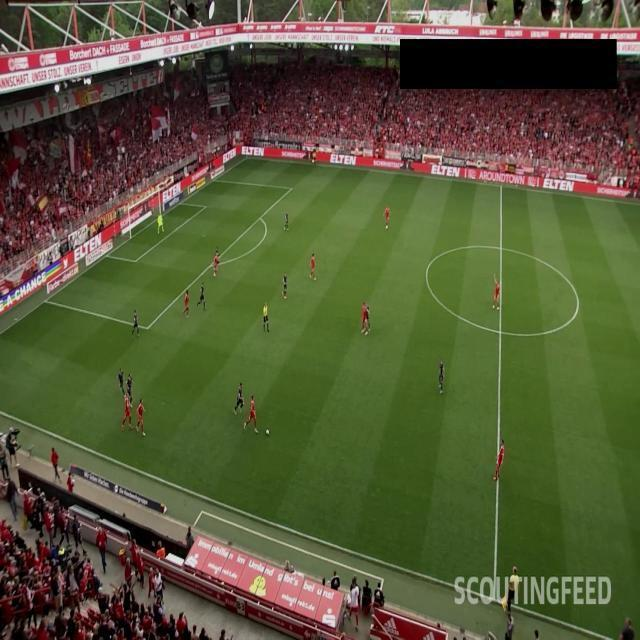Ball: (265, 428, 269, 436)
Corner: (244, 141, 249, 161)
GoalKeeper: (157, 211, 166, 235)
Referee: (501, 566, 519, 614), (262, 301, 270, 333), (311, 150, 317, 166)
TEAM 1: (243, 394, 259, 434), (493, 438, 505, 481), (121, 394, 133, 431), (136, 398, 146, 437), (361, 300, 370, 336), (492, 273, 500, 310), (309, 252, 317, 282), (183, 289, 189, 318), (384, 206, 391, 230), (214, 251, 218, 277)
TEAM 2: (233, 382, 244, 416), (125, 372, 134, 402), (117, 367, 126, 397), (438, 358, 445, 394), (132, 308, 140, 338), (198, 283, 206, 311), (282, 271, 288, 299), (213, 246, 220, 268), (283, 210, 289, 232)
